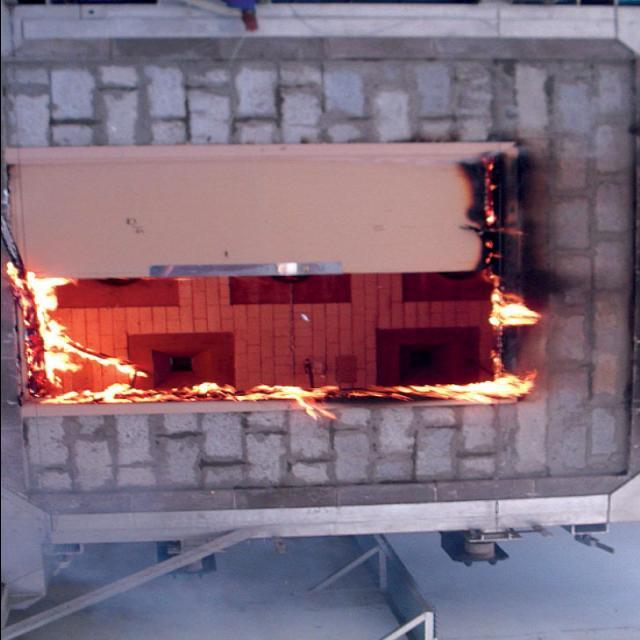Fire: (11, 166, 550, 416)
